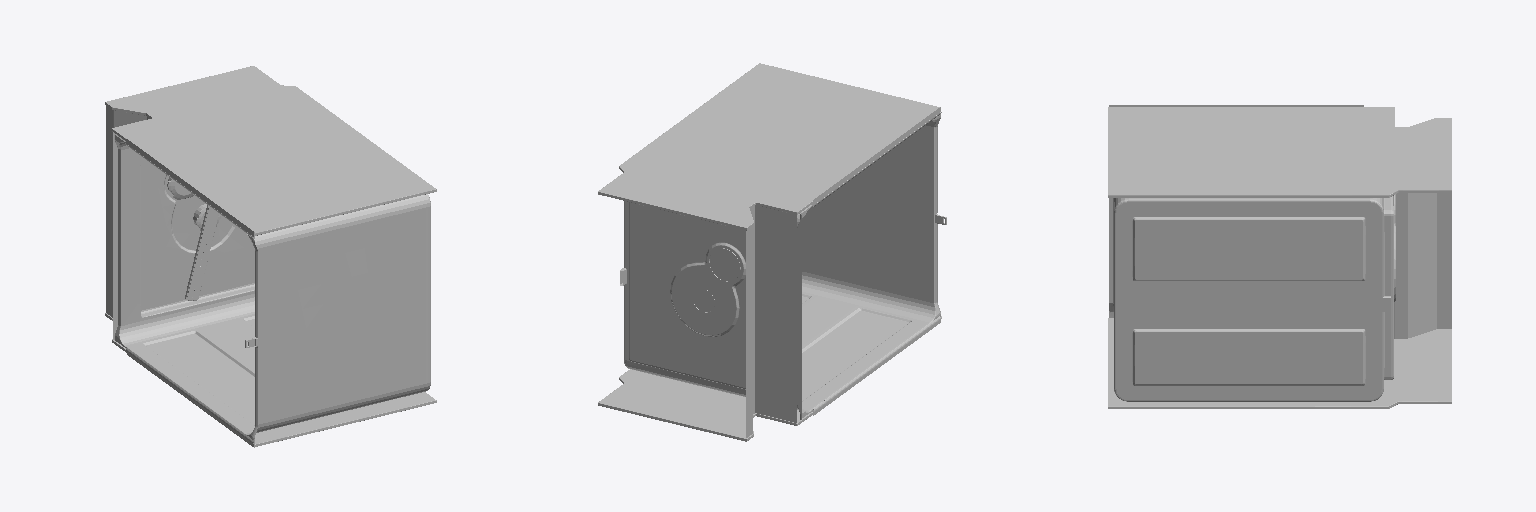
The model's file is SM_Dishwasher_Base.obj.
3 renders of one model, left to right at view 1: azimuth 30°, elevation 25°; view 2: azimuth 150°, elevation 25°; view 3: azimuth 270°, elevation 25°, orthographic.
Visible parts, largest first — view 1: SM_Dishwasher_Base; view 2: SM_Dishwasher_Base; view 3: SM_Dishwasher_Base.
Boxes of the visible parts, <box> form: SM_Dishwasher_Base: <box>105,66,436,447</box>; SM_Dishwasher_Base: <box>598,63,946,441</box>; SM_Dishwasher_Base: <box>1108,105,1451,408</box>.
Bounding box in the file's own units: 0.5347 × 0.584 × 0.8439.